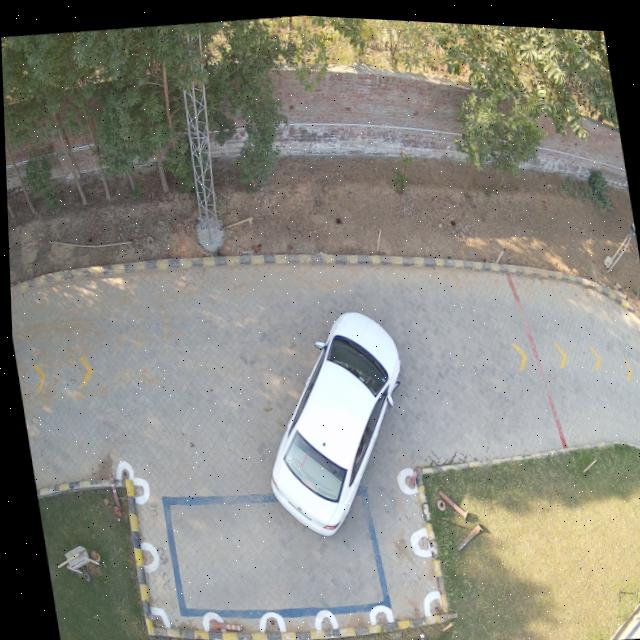car: (267, 307, 398, 532)
